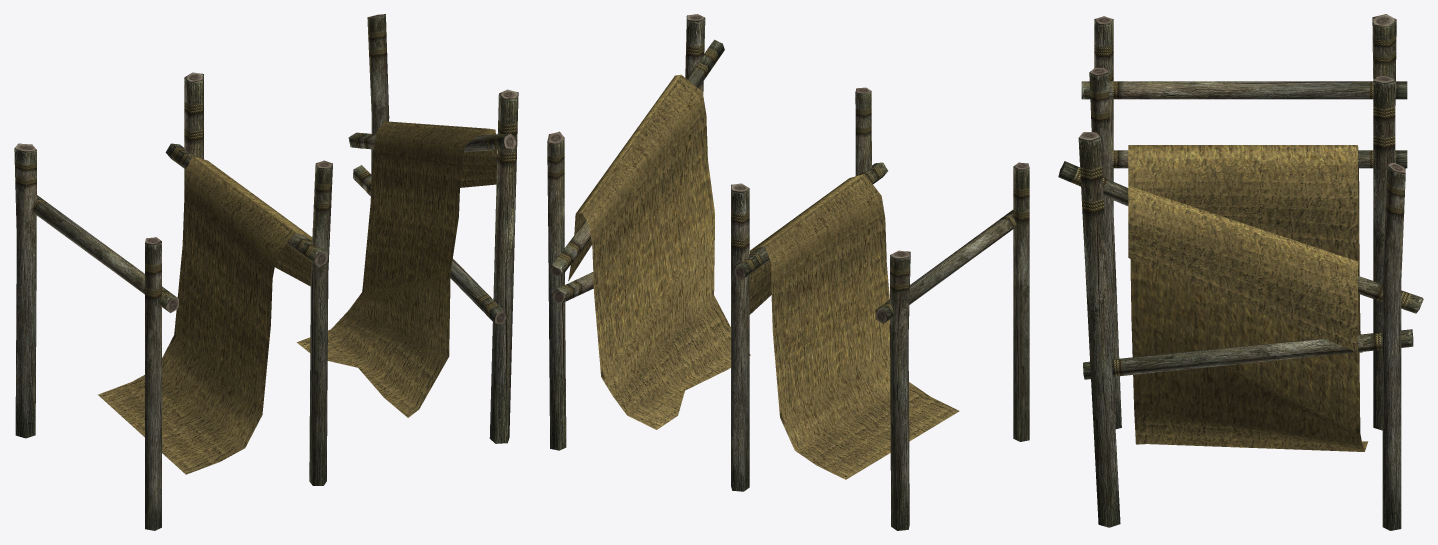
Rendered from thing_hake_02.fbx.
The picture shows the model from 3 angles, left to right: view 1: azimuth 30°, elevation 25°; view 2: azimuth 150°, elevation 25°; view 3: azimuth 270°, elevation 25°; orthographic projection. The views are drawn at different scales.
Visible parts, largest first — view 1: thing_hake_02; view 2: thing_hake_02; view 3: thing_hake_02.
Part boxes in pixels (x1,y1,x2,y2): thing_hake_02: [14, 14, 518, 530]; thing_hake_02: [547, 14, 1029, 530]; thing_hake_02: [1058, 14, 1423, 530].
Bounding box in the file's own units: 5.39 × 4.82 × 4.12.
